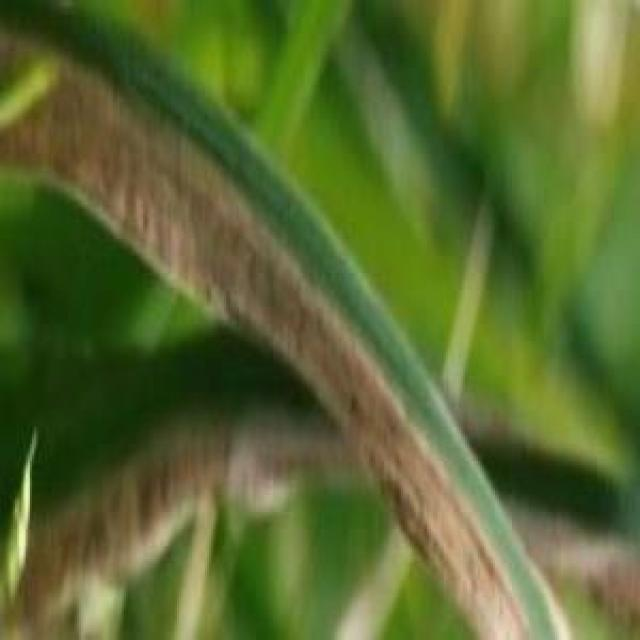Bacterial_Blight: (11, 41, 601, 640)
